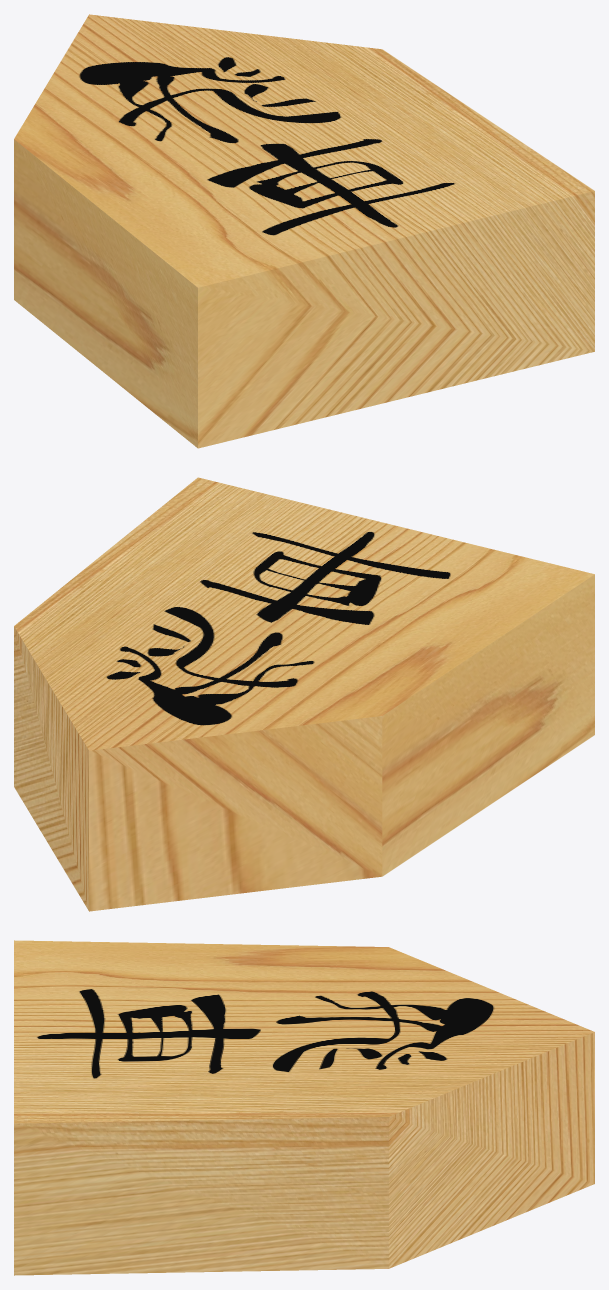
File: koma_hisha.gltf
The picture shows the model from 3 angles, top to bottom: view 1: azimuth 30°, elevation 25°; view 2: azimuth 150°, elevation 25°; view 3: azimuth 270°, elevation 25°; orthographic projection. The views are drawn at different scales.
Parts seen in each view (by area): view 1: Cylinder; view 2: Cylinder; view 3: Cylinder.
Part boxes in pixels (bbox=[...]): Cylinder: bbox=[14, 14, 594, 448]; Cylinder: bbox=[14, 477, 594, 911]; Cylinder: bbox=[14, 940, 594, 1275].
Bounding box in the file's own units: 1.29 × 0.5 × 1.73.
Materials: 1 (1 with a texture image).
